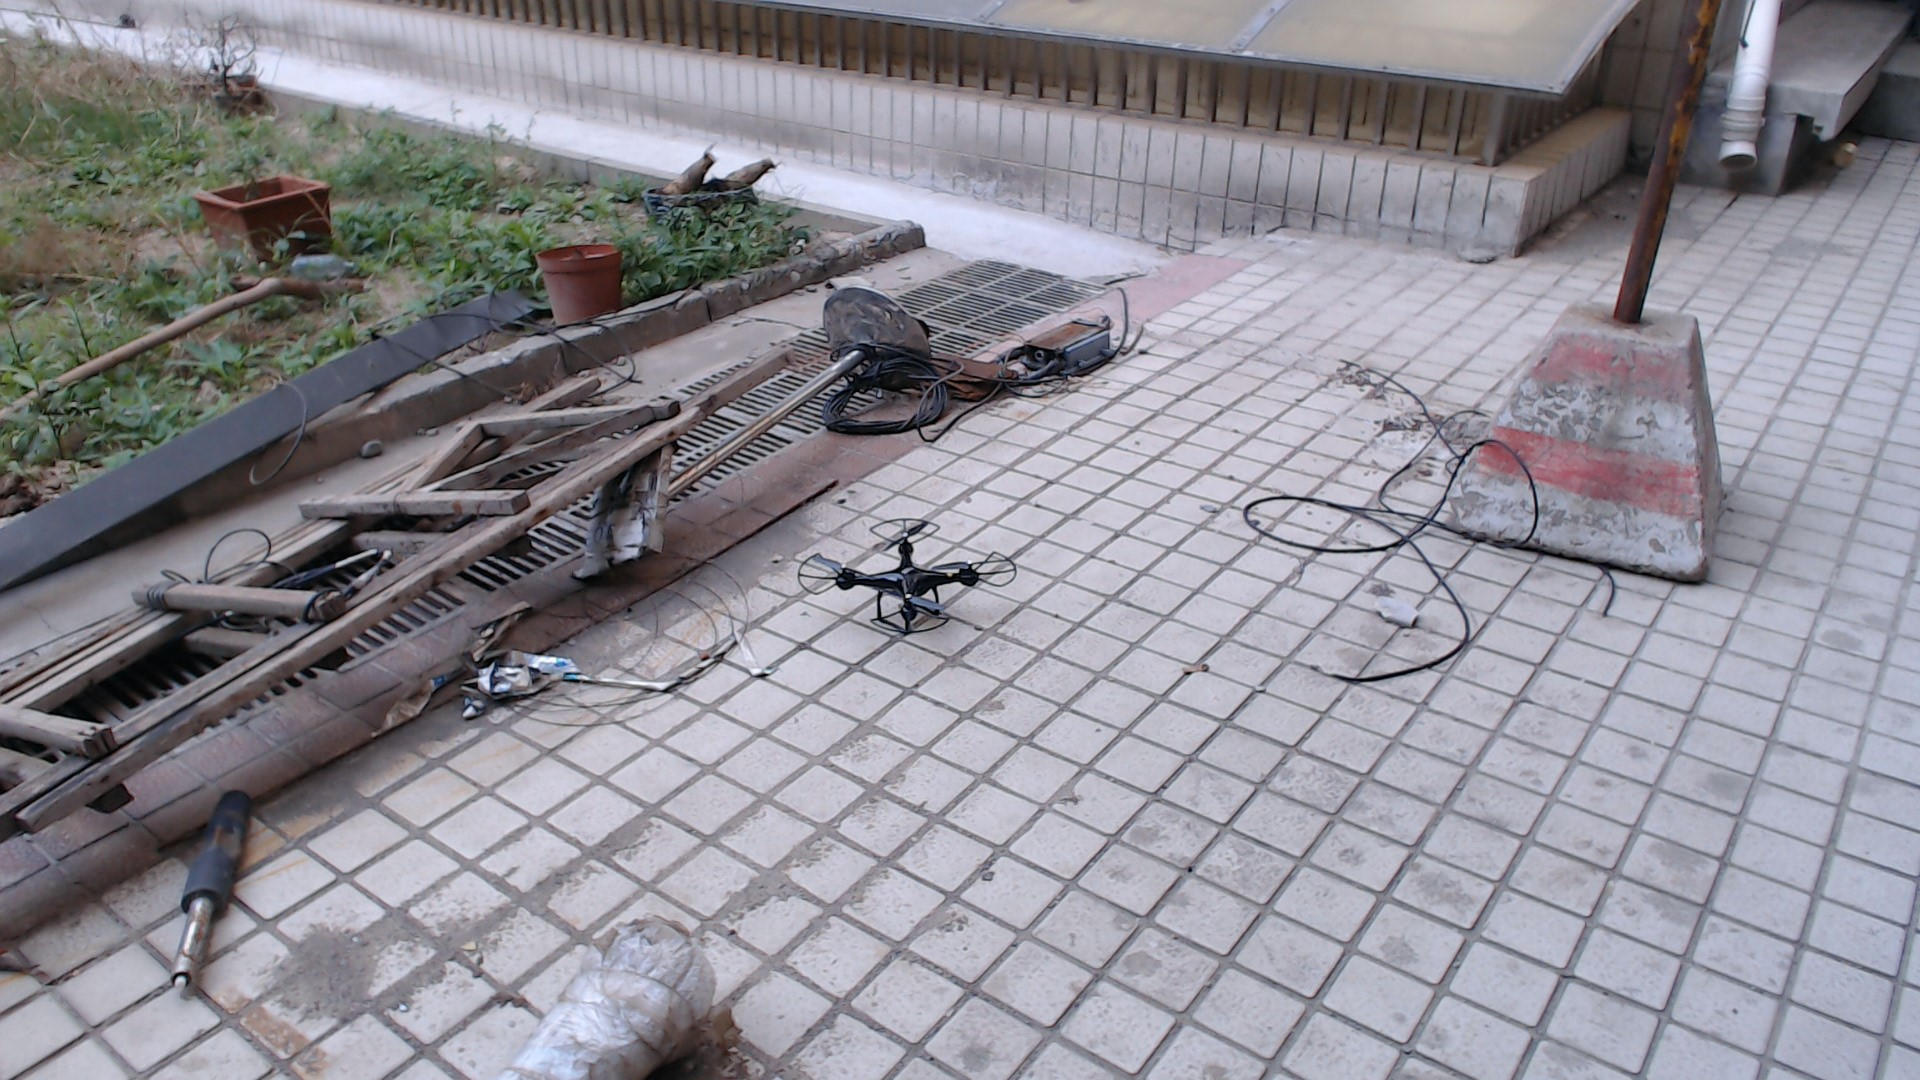drone: (761, 497, 1054, 654)
